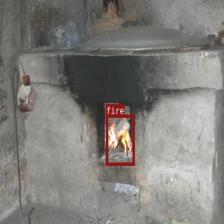fire: (106, 114, 134, 165)
